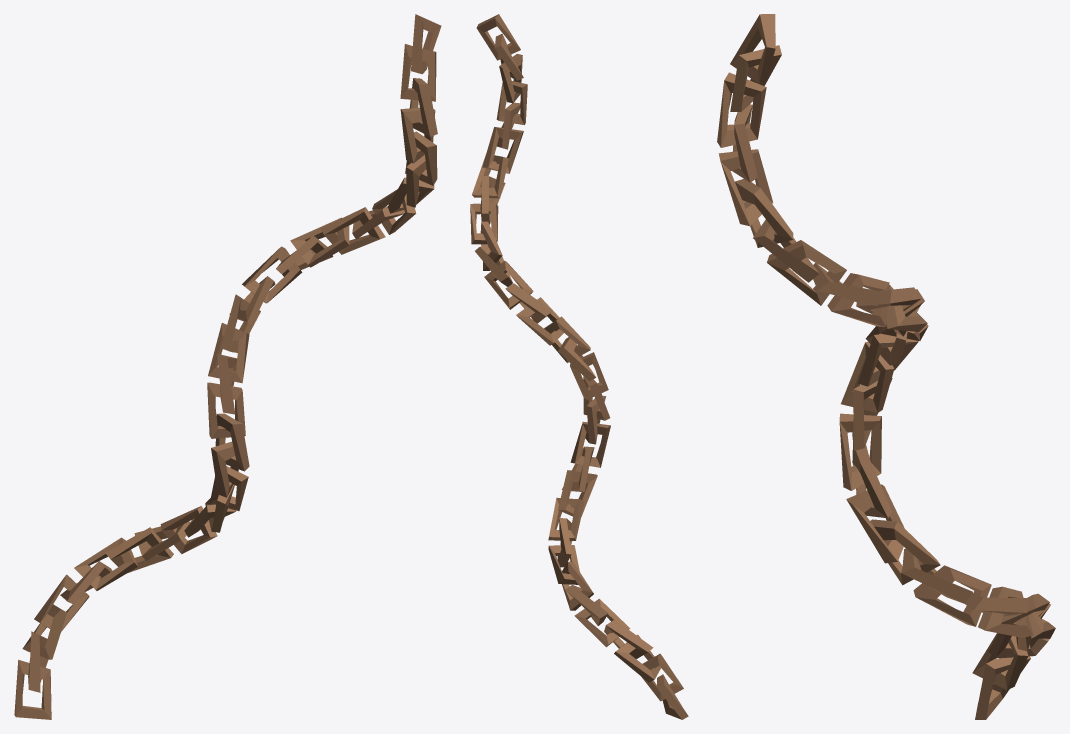
Rendered from Chain_01_Bend_05.fbx.
3 views of the same model, side by side, from view 1: azimuth 30°, elevation 25°; view 2: azimuth 150°, elevation 25°; view 3: azimuth 270°, elevation 25° (orthographic). The views are drawn at different scales.
Visible parts, largest first — view 1: Chain_01_Bend_05; view 2: Chain_01_Bend_05; view 3: Chain_01_Bend_05.
Part boxes in pixels (left/top/right/bottom): Chain_01_Bend_05: left=14, top=14, right=441, bottom=719; Chain_01_Bend_05: left=470, top=14, right=688, bottom=719; Chain_01_Bend_05: left=717, top=14, right=1055, bottom=719.
Bounding box in the file's own units: 230 × 451 × 157.
